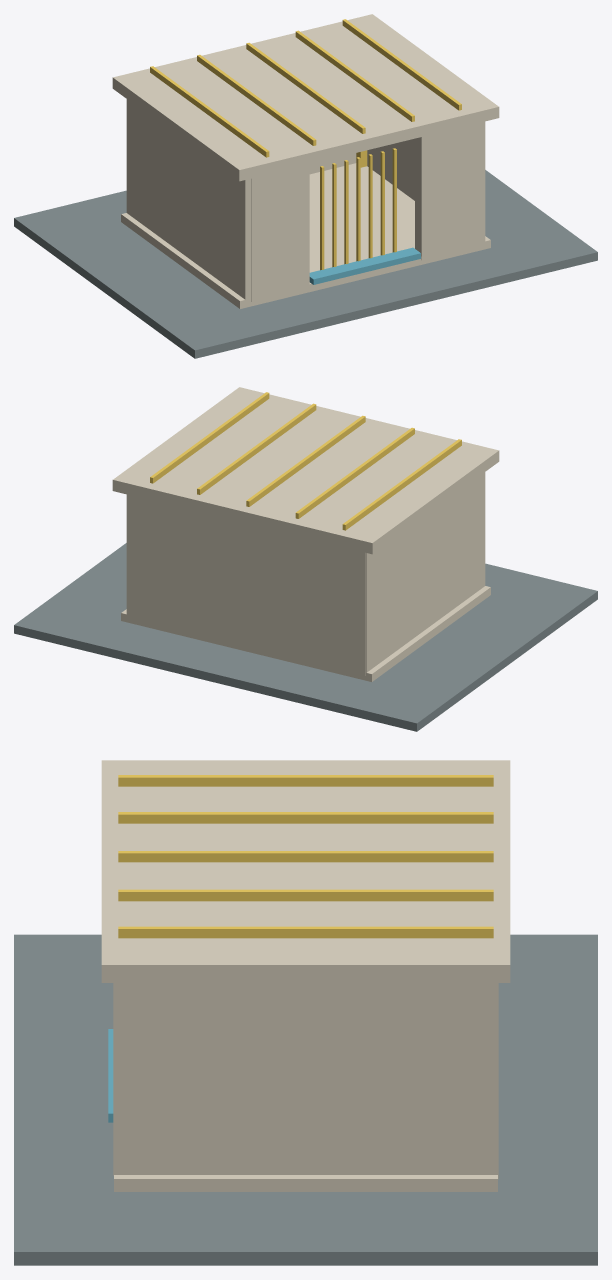
The model's file is courtyard-pavilion.glb.
3 renders of one model, top to bottom at view 1: azimuth 30°, elevation 25°; view 2: azimuth 150°, elevation 25°; view 3: azimuth 270°, elevation 25°, orthographic. The views are drawn at different scales.
Visible parts, largest first — view 1: Site base, Roof plate, West wall, Courtyard floor, South pier east, South pier west, East wall, Entry threshold, Pergola beam 4, Pergola beam 0, Pergola beam 2, Pergola beam 1 (+9 smaller); view 2: Site base, Roof plate, North wall, West wall, Courtyard floor, Pergola beam 4, Pergola beam 0, Pergola beam 2, Pergola beam 1, Pergola beam 3; view 3: Site base, East wall, Roof plate, Courtyard floor, Pergola beam 3, Pergola beam 4, Pergola beam 0, Pergola beam 1, Pergola beam 2.
Part boxes in pixels (bbox=[...]): Site base: bbox=[14, 170, 597, 358]; Roof plate: bbox=[112, 14, 499, 181]; West wall: bbox=[126, 99, 251, 301]; Courtyard floor: bbox=[121, 163, 490, 308]; South pier east: bbox=[415, 123, 479, 260]; South pier west: bbox=[251, 164, 309, 301]; East wall: bbox=[367, 121, 485, 245]; Entry threshold: bbox=[309, 247, 420, 284]; Pergola beam 4: bbox=[342, 19, 461, 110]; Pergola beam 0: bbox=[150, 66, 269, 157]; Pergola beam 2: bbox=[246, 42, 365, 133]; Pergola beam 1: bbox=[197, 54, 316, 145]; Site base: bbox=[14, 543, 597, 731]; Roof plate: bbox=[112, 387, 499, 554]; North wall: bbox=[127, 495, 365, 675]; West wall: bbox=[365, 472, 485, 674]; Courtyard floor: bbox=[121, 586, 490, 681]; Pergola beam 4: bbox=[150, 392, 269, 483]; Pergola beam 0: bbox=[342, 439, 461, 530]; Pergola beam 2: bbox=[246, 415, 365, 506]; Pergola beam 1: bbox=[295, 427, 414, 518]; Pergola beam 3: bbox=[197, 403, 316, 494]; Site base: bbox=[14, 934, 597, 1265]; East wall: bbox=[114, 983, 497, 1174]; Roof plate: bbox=[101, 760, 510, 982]; Courtyard floor: bbox=[114, 1175, 497, 1191]; Pergola beam 3: bbox=[118, 889, 493, 901]; Pergola beam 4: bbox=[118, 926, 493, 938]; Pergola beam 0: bbox=[118, 775, 493, 786]; Pergola beam 1: bbox=[118, 812, 493, 823]; Pergola beam 2: bbox=[118, 851, 493, 862].
Size of the model in its own units: 9 by 3.37 by 7.
